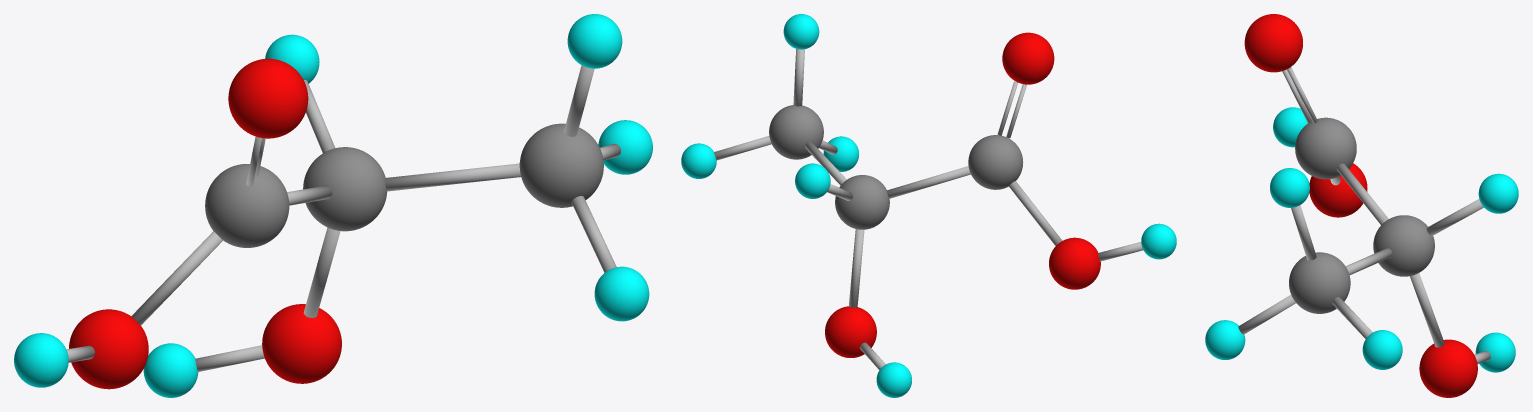
File: l-lactic acid.glb
3 views of the same model, side by side, from view 1: azimuth 30°, elevation 25°; view 2: azimuth 150°, elevation 25°; view 3: azimuth 270°, elevation 25° (orthographic). The views are drawn at different scales.
Visible parts, largest first — view 1: CMAtom_0; view 2: CMAtom_0; view 3: CMAtom_0.
Part boxes in pixels (x1=…): CMAtom_0: x1=14, y1=14, x2=652, y2=397; CMAtom_0: x1=681, y1=14, x2=1176, y2=397; CMAtom_0: x1=1205, y1=14, x2=1518, y2=397.
Bounding box in the file's own units: 0.5849 × 0.3688 × 0.3131.
